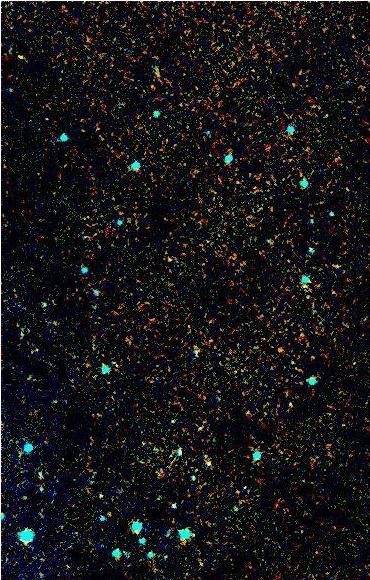star: (265, 335, 295, 365)
